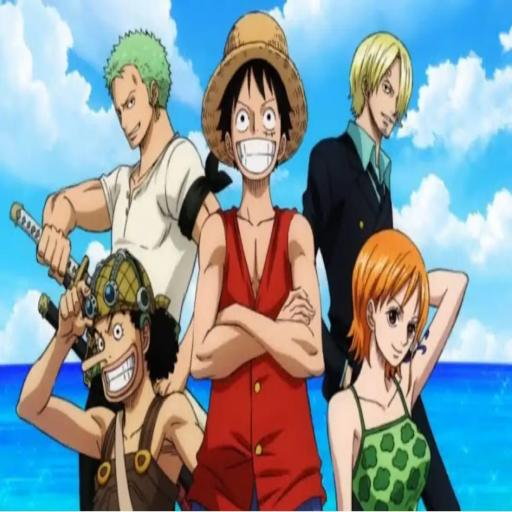Luffy: (213, 13, 316, 512)
Nami: (330, 228, 455, 496)
Usopp: (16, 262, 196, 512)
Zoro: (81, 22, 193, 256)
sanji: (334, 26, 413, 222)
